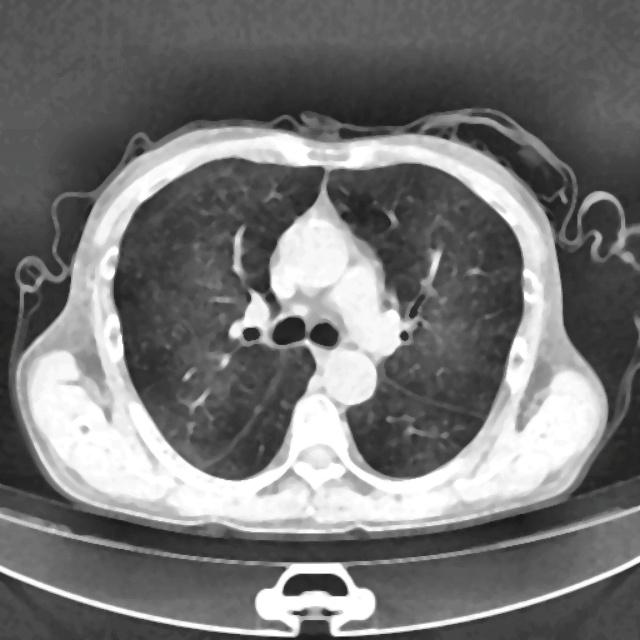covid: (10, 107, 614, 542)
